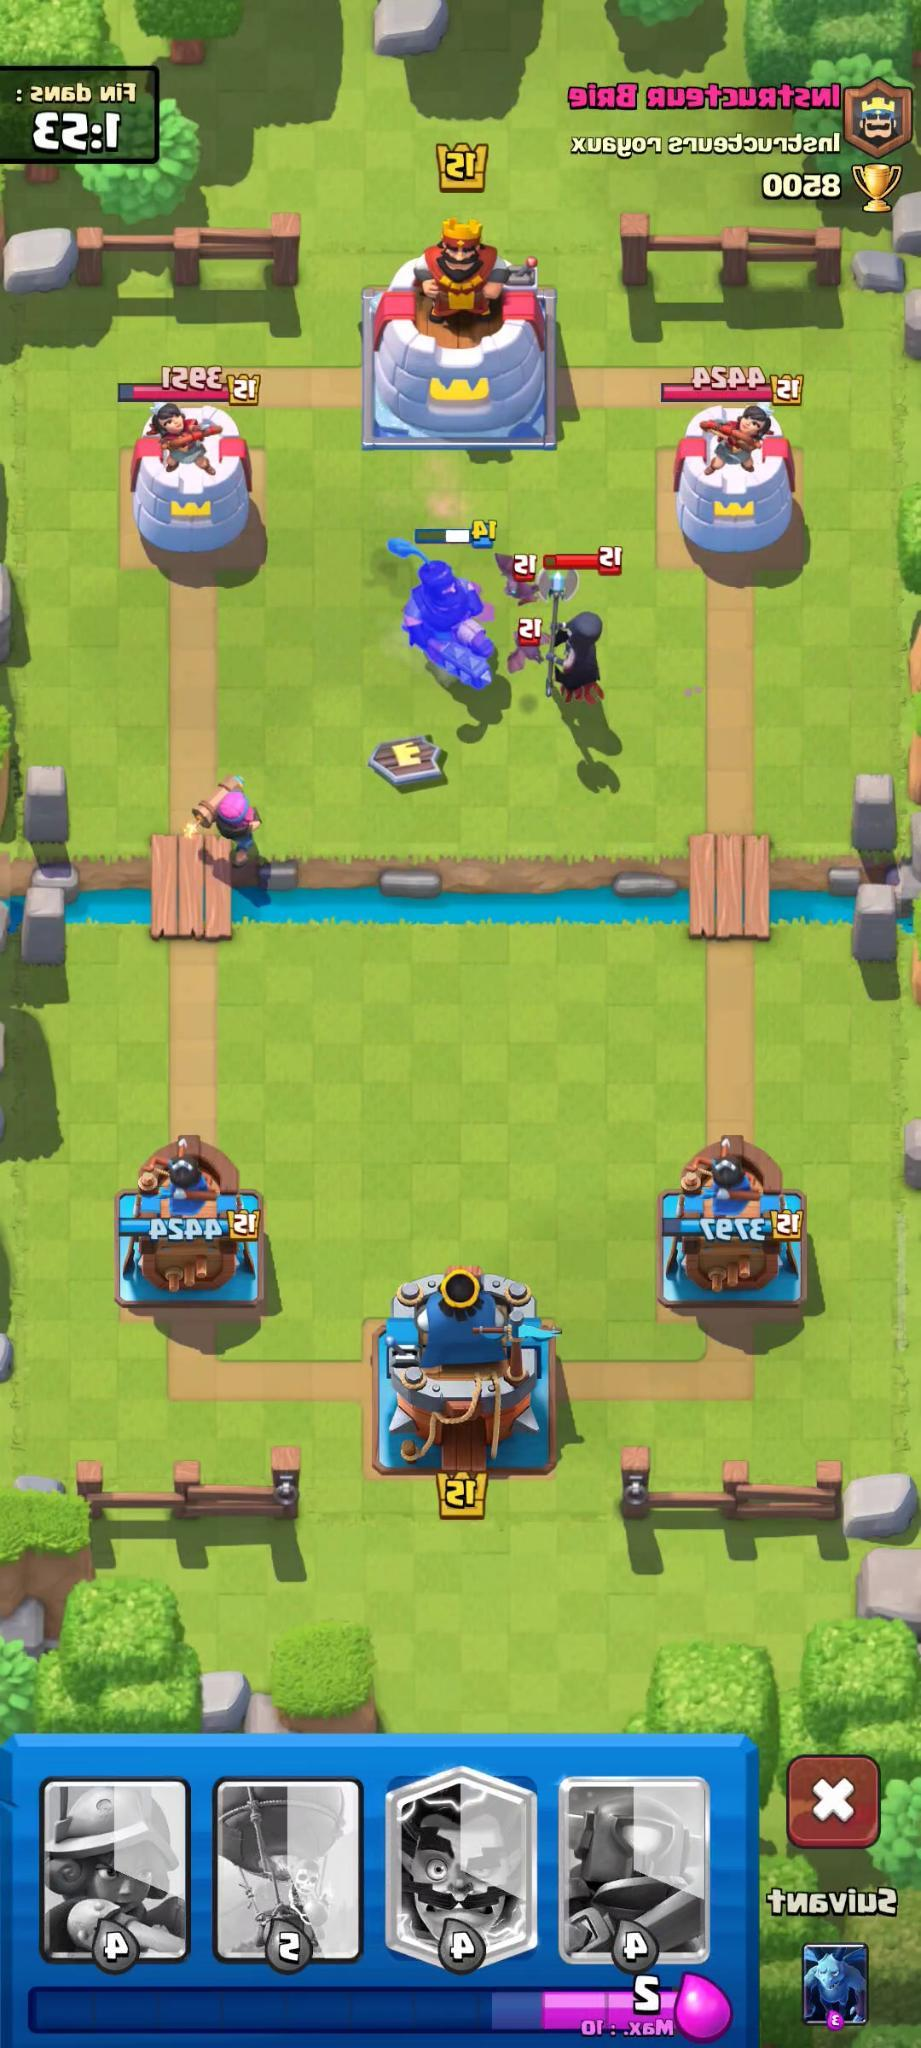enemy_bats: (494, 546, 540, 609), (503, 615, 548, 672)
enemy_night_witch: (530, 562, 610, 710)
player_dark_prince: (372, 512, 512, 708)
player_firecraker: (175, 758, 270, 872)
